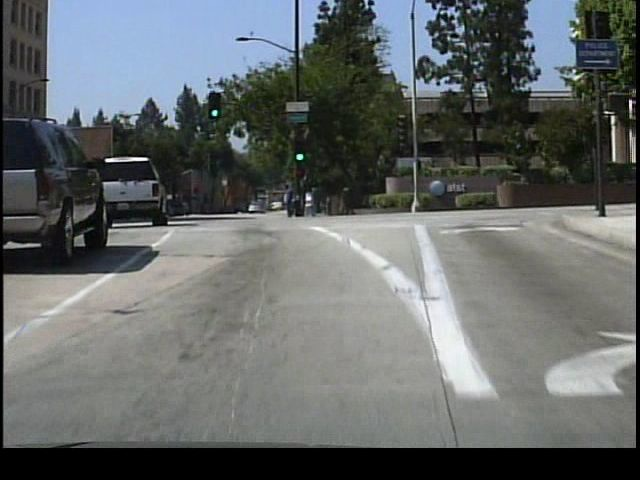person: (278, 176, 298, 220), (300, 184, 321, 221)
